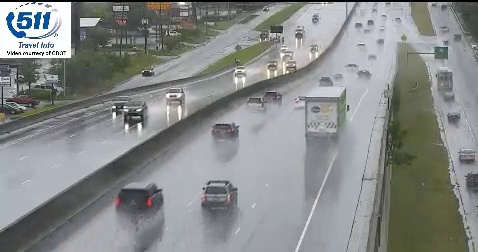car: (116, 183, 164, 215), (201, 181, 237, 210), (212, 122, 239, 142), (262, 90, 282, 106), (246, 96, 264, 111), (293, 96, 307, 108), (318, 76, 333, 86)
small-truck: (304, 87, 346, 142)
